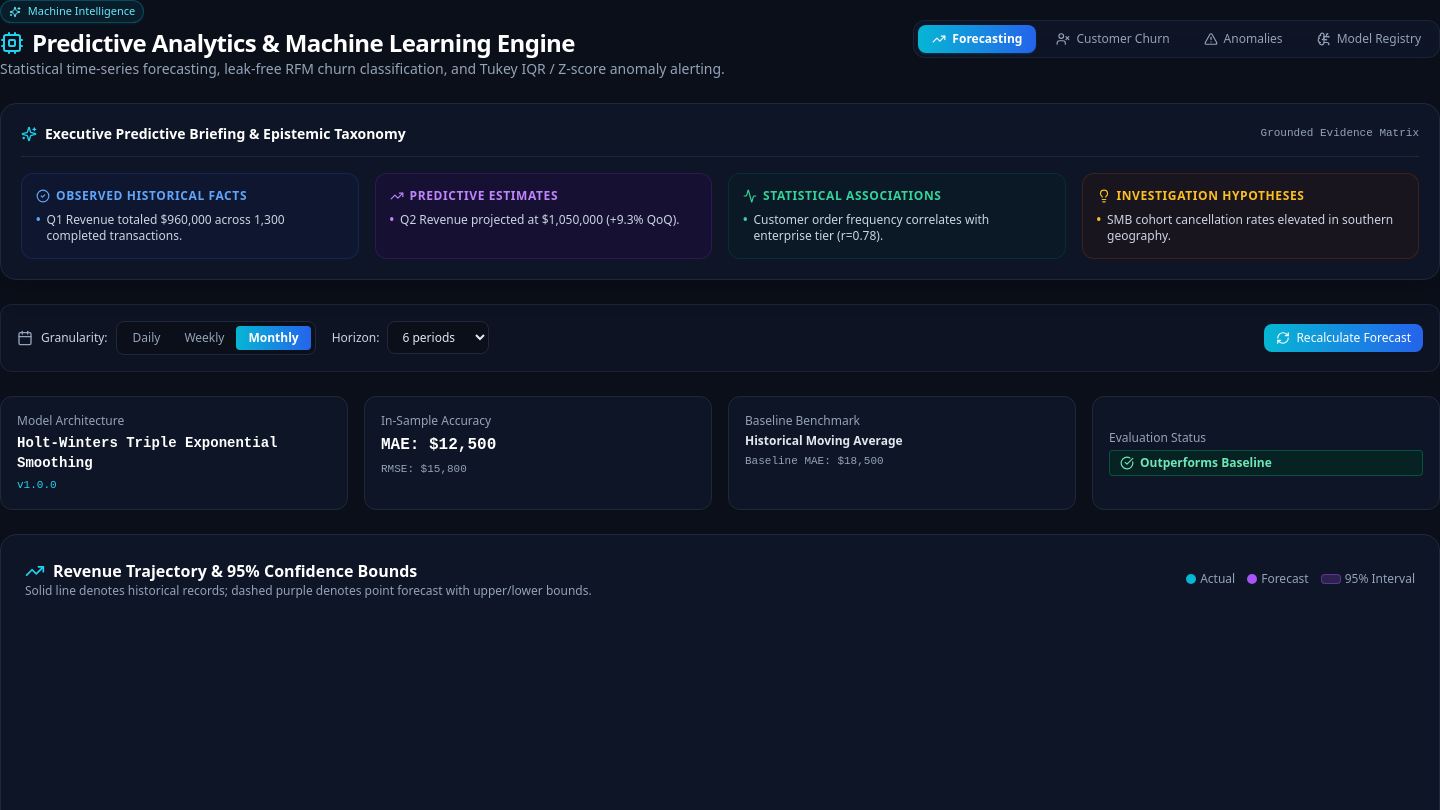
MLDashboardView Component › switches to Customer Churn tab and renders at-risk accounts
The image size is (1440, 810).
Check: the heading "Revenue Trajectory & 95% Confidence Bounds" is shown, box [25, 560, 417, 582]
Click the button "Customer Churn". click: click(1113, 39)
box: [1042, 25, 1184, 53]
(page scrolled)
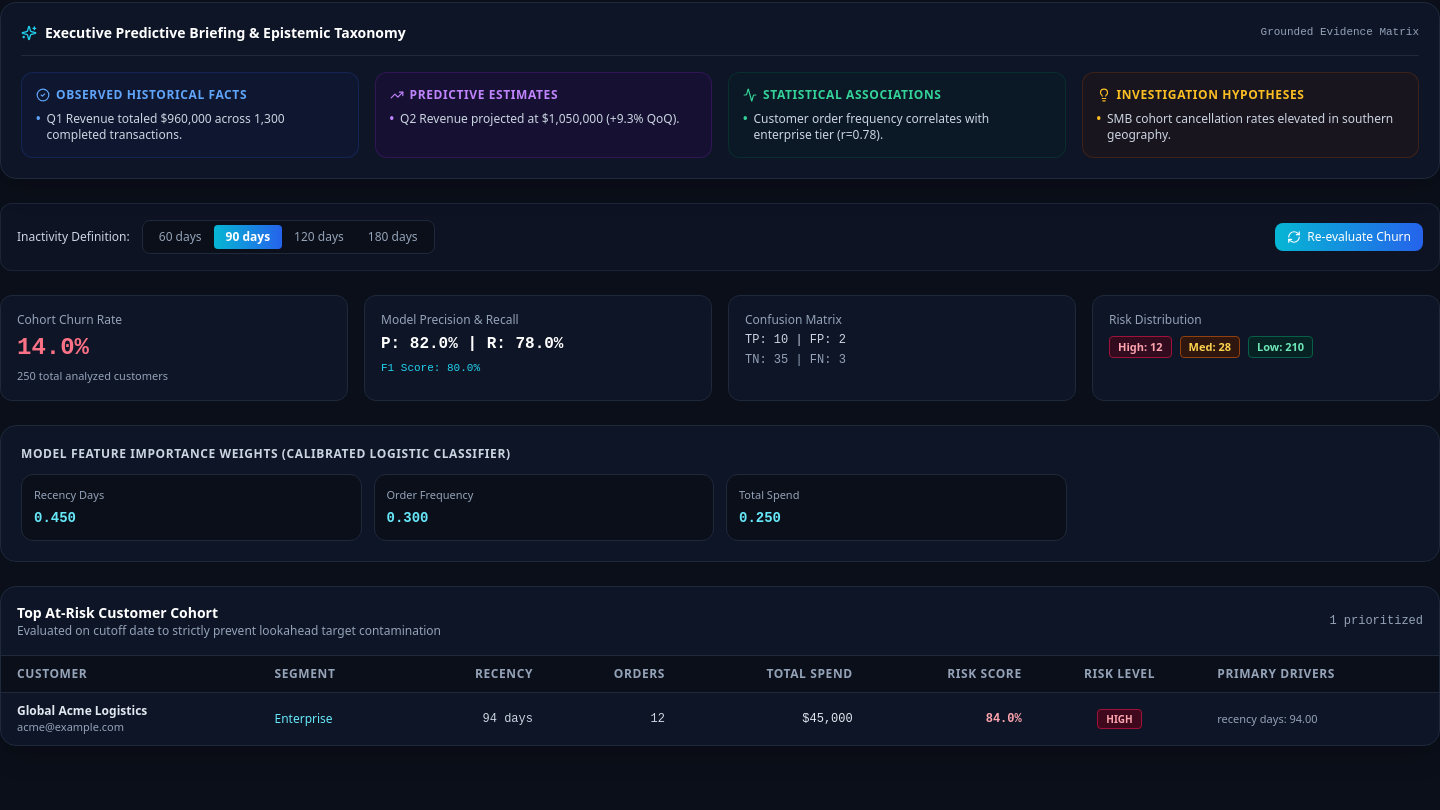
Check: the heading "Top At-Risk Customer Cohort" is shown, box [17, 602, 218, 622]
Check: the text "Global Acme Logistics" is shown, box [17, 702, 147, 718]
Check: the text "84.0%" is shown, box [869, 692, 1038, 744]
